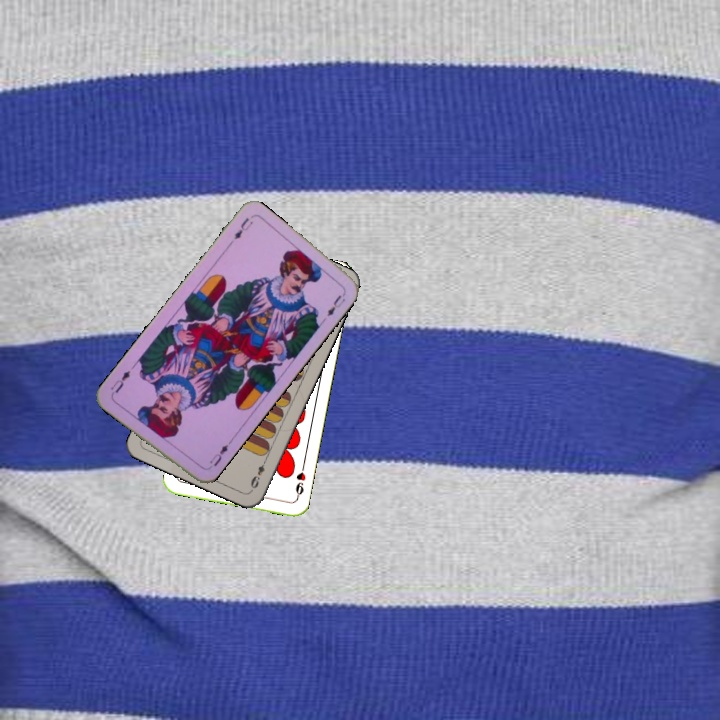E9: (246, 454, 270, 493)
EU: (205, 437, 234, 469), (230, 214, 256, 242)
H9: (292, 461, 308, 501)
